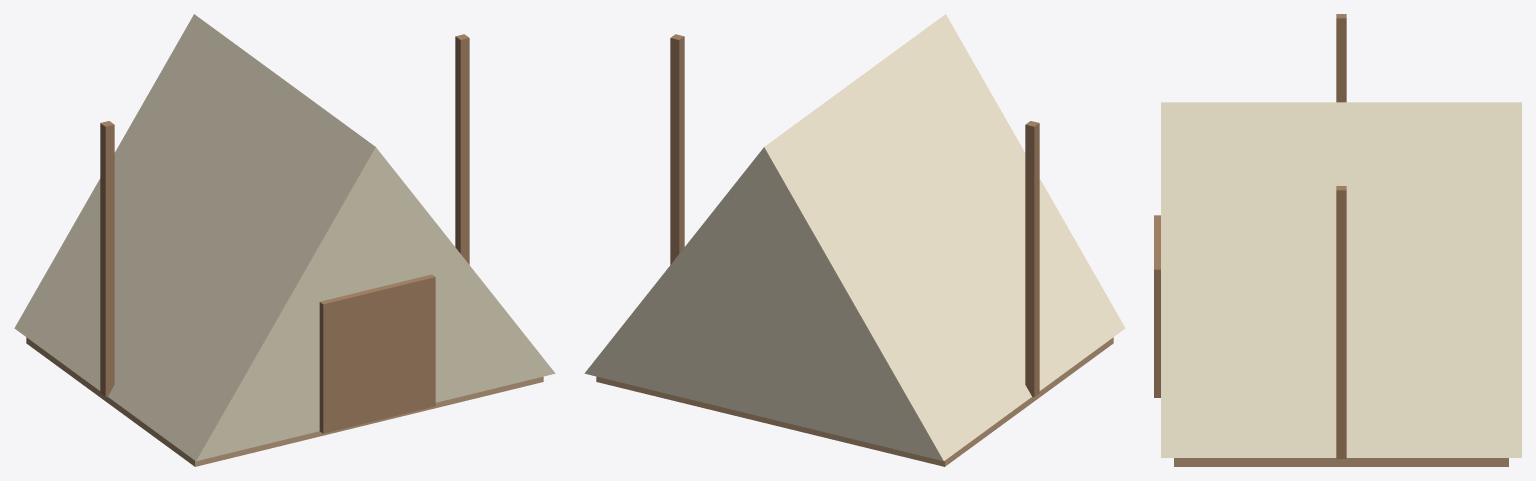
The model's file is canvas-tent.glb.
The picture shows the model from 3 angles, left to right: view 1: azimuth 30°, elevation 25°; view 2: azimuth 150°, elevation 25°; view 3: azimuth 270°, elevation 25°; orthographic projection.
Visible parts, largest first — view 1: Canvas shelter, Tent entrance flap, Tent ridge support, Tent ridge support.001, Tent floor; view 2: Canvas shelter, Tent ridge support, Tent ridge support.001, Tent floor; view 3: Canvas shelter, Tent floor, Tent ridge support.001, Tent entrance flap, Tent ridge support.
Boxes of the visible parts, box(x1,y1,x2,y2) form: Canvas shelter: box(14, 14, 555, 461); Tent entrance flap: box(319, 274, 435, 433); Tent ridge support: box(100, 121, 114, 397); Tent ridge support.001: box(455, 34, 469, 264); Tent floor: box(26, 337, 543, 466); Canvas shelter: box(584, 14, 1125, 461); Tent ridge support: box(1025, 121, 1039, 397); Tent ridge support.001: box(670, 34, 684, 264); Tent floor: box(596, 337, 1113, 466); Canvas shelter: box(1161, 102, 1521, 457); Tent floor: box(1174, 458, 1508, 466); Tent ridge support.001: box(1336, 186, 1346, 458); Tent entrance flap: box(1154, 215, 1160, 397); Tent ridge support: box(1336, 14, 1346, 102).
Bounding box in the file's own units: 3.24 × 2.4 × 2.85.
